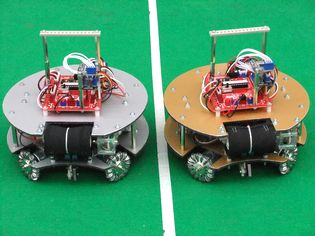Robot: (2, 22, 153, 189), (161, 23, 312, 184)
